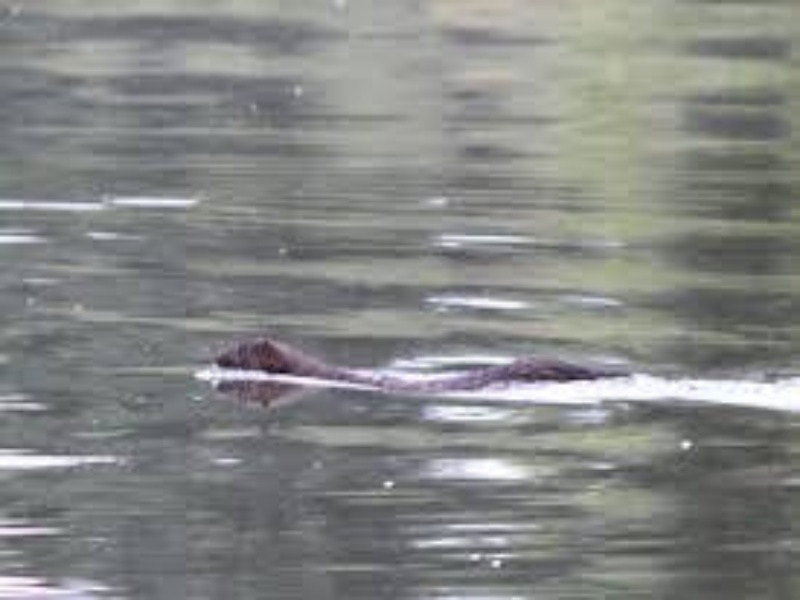minkish: (210, 334, 636, 395)
